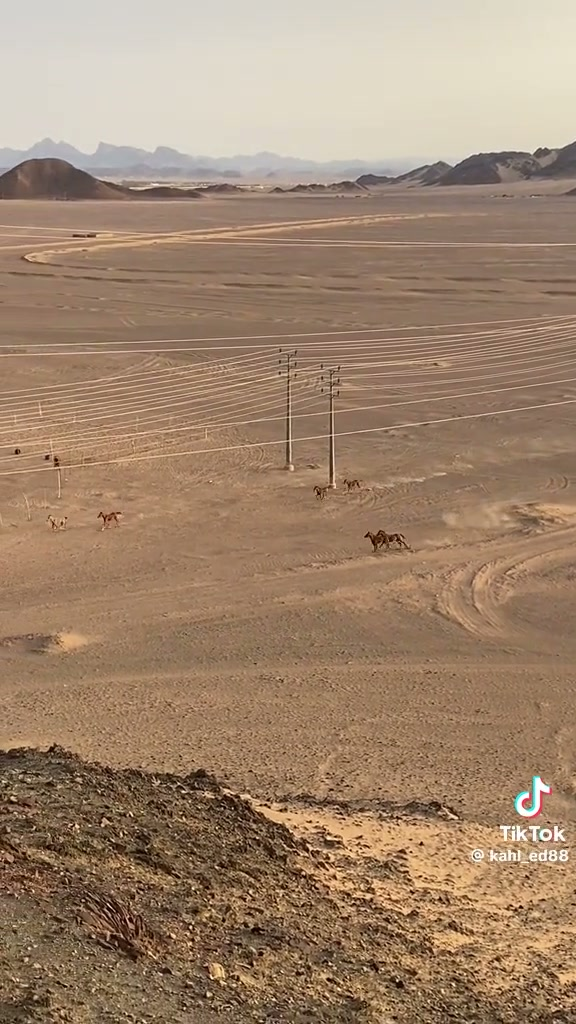animal: (365, 530, 409, 550), (97, 511, 121, 529), (386, 532, 409, 549), (364, 531, 383, 551), (47, 515, 67, 530), (343, 478, 360, 492), (314, 486, 327, 499), (53, 456, 60, 468), (14, 448, 20, 455), (45, 454, 51, 460)
vehicle_track: (436, 527, 575, 651)
